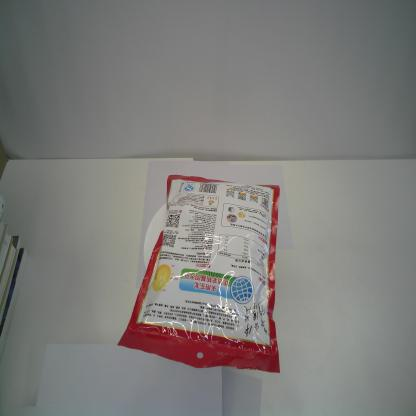Instant Drink: (117, 174, 281, 374)
